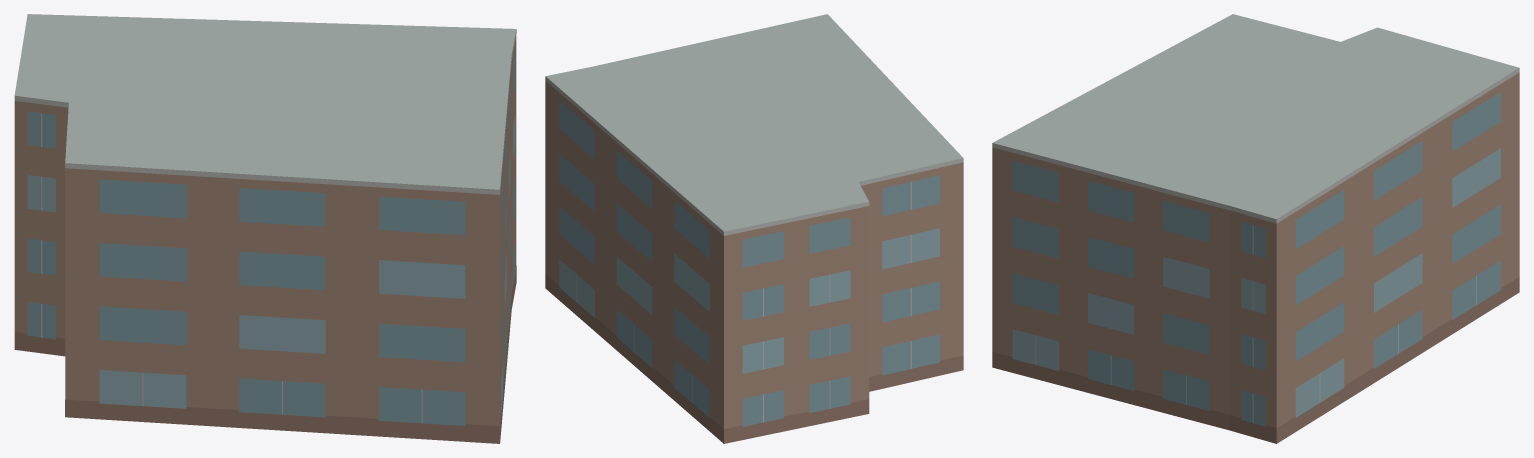
Rendered from survey-upis-32645360.glb.
3 renders of one model, left to right at view 1: azimuth 30°, elevation 25°; view 2: azimuth 150°, elevation 25°; view 3: azimuth 270°, elevation 25°, orthographic. The views are drawn at different scales.
Visible parts, largest first — view 1: survey-upis-32645360.tmp; view 2: survey-upis-32645360.tmp; view 3: survey-upis-32645360.tmp.
Part boxes in pixels (x1,y1,x2,y2): survey-upis-32645360.tmp: [14, 14, 516, 443]; survey-upis-32645360.tmp: [545, 14, 963, 443]; survey-upis-32645360.tmp: [992, 14, 1519, 443].
Bounding box in the file's own units: 23.92 × 12.2 × 25.96.
